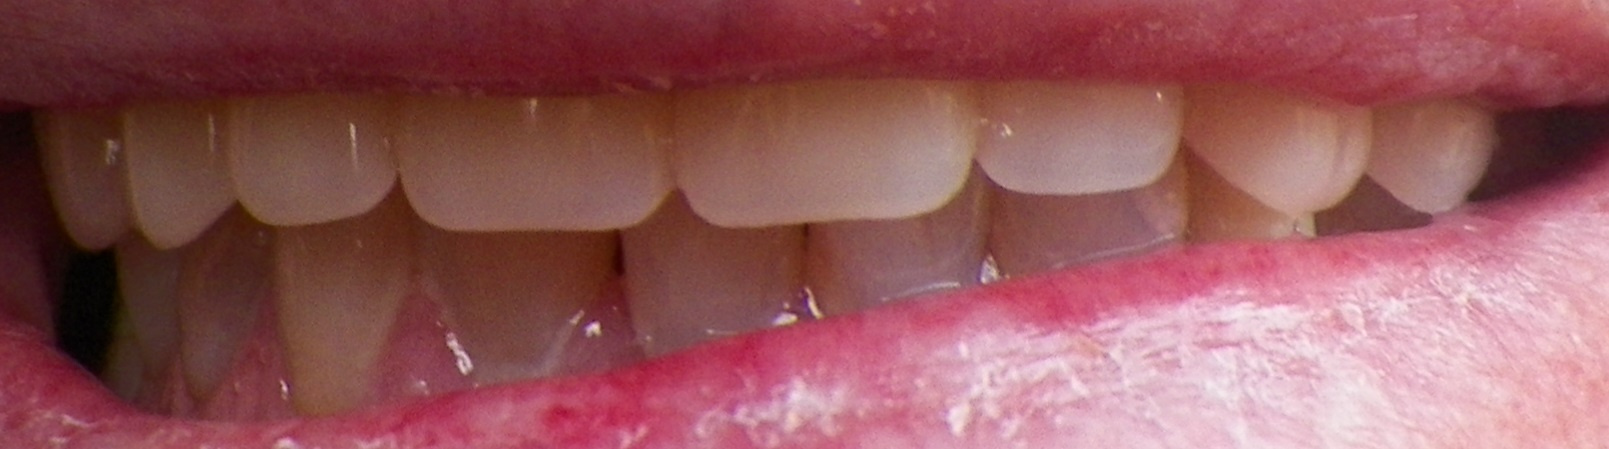boca: (29, 55, 1512, 399)
